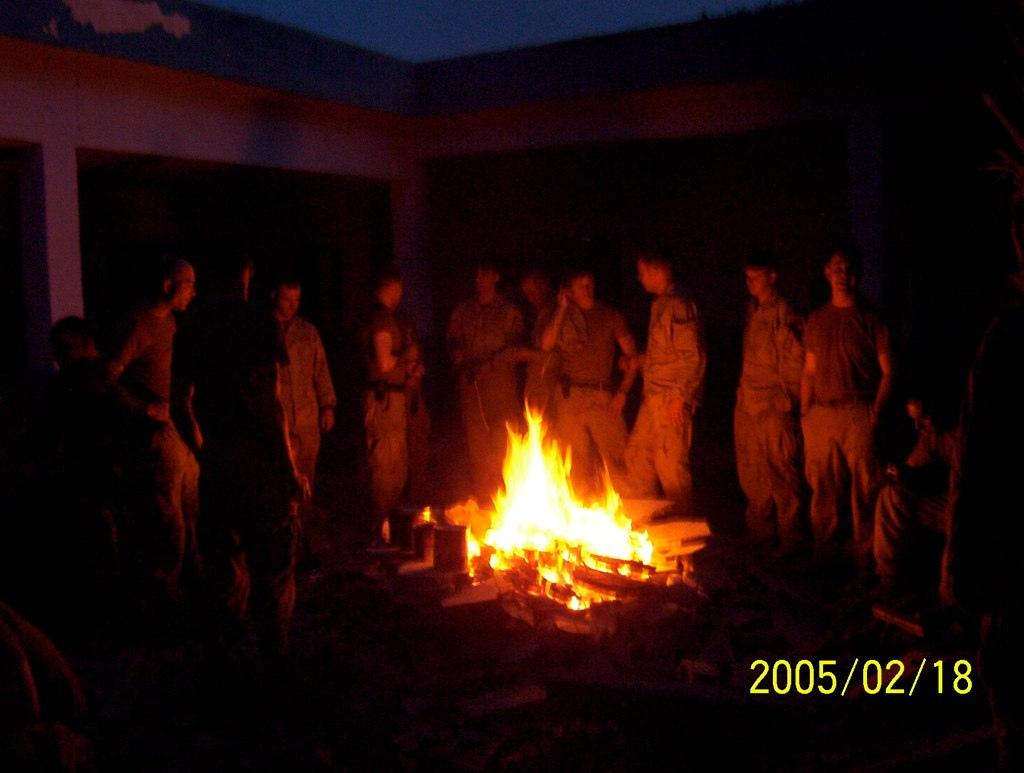fire: (502, 422, 594, 548)
